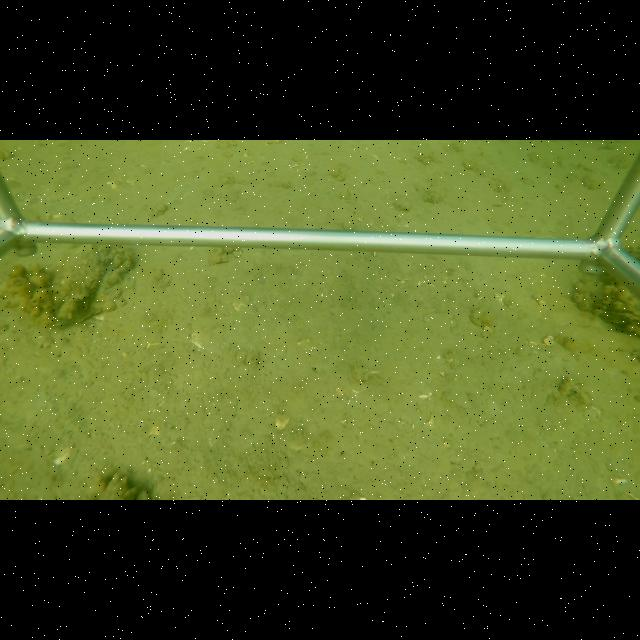Oyster-Closed: (46, 243, 105, 328)
Oyster-Open: (589, 306, 638, 328)
